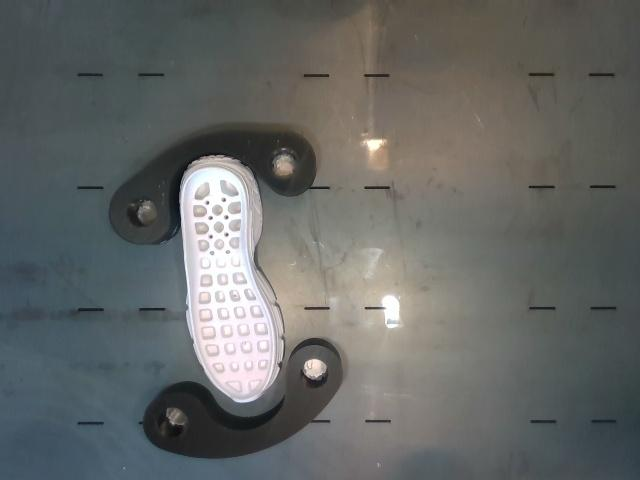shoes: (182, 168, 274, 400)
